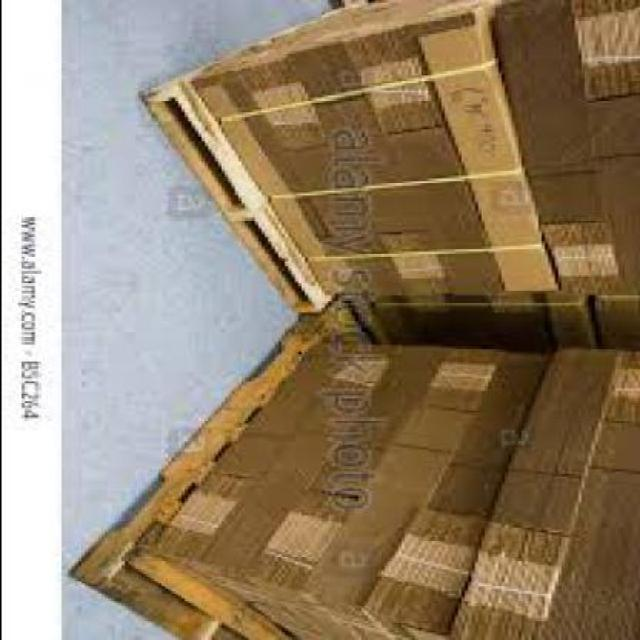CARDBOARD: (200, 10, 563, 290), (157, 337, 363, 638), (250, 342, 456, 638), (310, 342, 513, 638), (210, 342, 401, 638), (454, 345, 626, 637), (360, 345, 526, 637), (431, 8, 560, 286), (540, 344, 638, 638), (194, 0, 480, 83), (497, 0, 597, 171), (531, 158, 623, 294), (374, 291, 557, 346), (576, 0, 638, 158), (590, 154, 638, 294), (590, 290, 638, 348), (550, 288, 596, 347)
